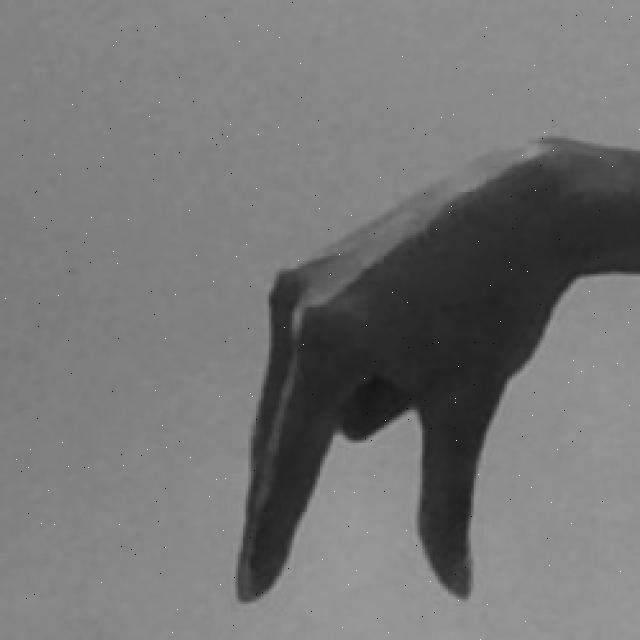Q: (227, 127, 640, 615)
